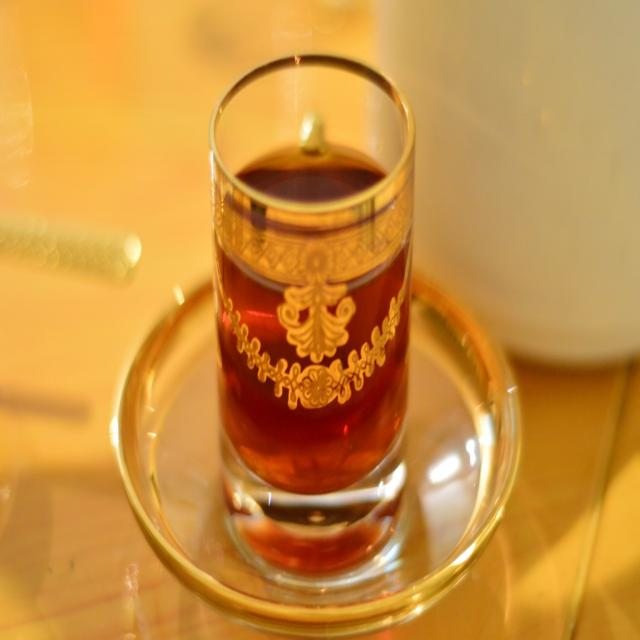Tea: (213, 141, 415, 577)
